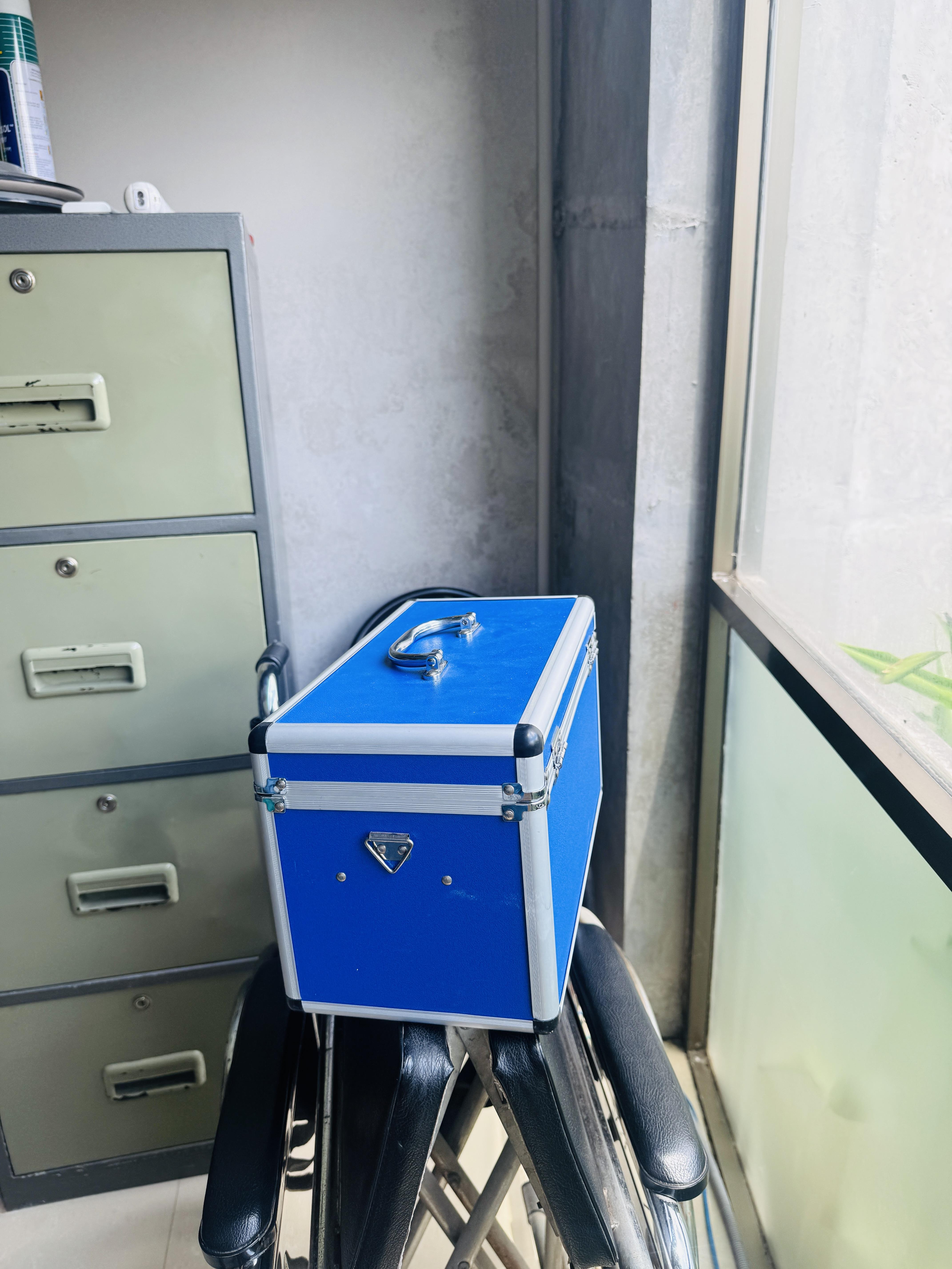FirstAidBox: (238, 560, 656, 1048)
